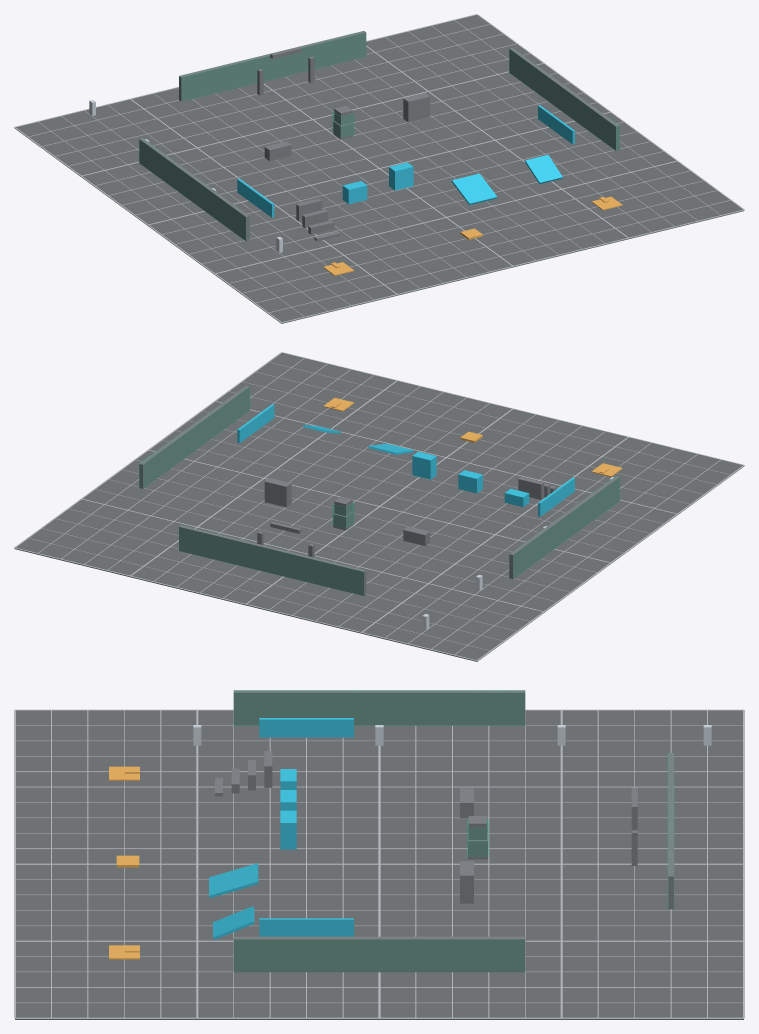
The model's file is env_test_arena_kit_01.glb.
The picture shows the model from 3 angles, top to bottom: view 1: azimuth 30°, elevation 25°; view 2: azimuth 150°, elevation 25°; view 3: azimuth 270°, elevation 25°; orthographic projection. The views are drawn at different scales.
Parts seen in each view (by area): view 1: env_test_floor_grid_01, env_test_wall_back_01, col_env_test_wall_back_01, env_test_wall_lane_left_01, env_test_wall_lane_right_01, col_env_test_wall_lane_right_01, col_env_test_wall_lane_left_01, env_test_slide_ramp_01, env_test_grid_y_-10, env_test_grid_y_-05, env_test_cover_high_01, env_test_launch_ramp_01 (+13 smaller); view 2: env_test_floor_grid_01, env_test_wall_back_01, col_env_test_wall_back_01, env_test_wall_lane_left_01, env_test_wall_lane_right_01, col_env_test_wall_lane_right_01, col_env_test_wall_lane_left_01, env_test_grid_y_+10, env_test_grid_y_-10, env_test_grid_y_+05, env_test_cover_high_01, env_test_mantle_ledge_160 (+14 smaller); view 3: env_test_floor_grid_01, env_test_wall_lane_right_01, env_test_wall_lane_left_01, col_env_test_wall_lane_right_01, col_env_test_wall_lane_left_01, env_test_wallrun_panel_02, env_test_wallrun_panel_01, env_test_grid_x_+10, env_test_grid_x_+09, env_test_grid_x_-08, env_test_grid_x_+02, env_test_grid_x_-01 (+29 smaller).
Boxes of the visible parts, <box> form: env_test_floor_grid_01: <box>15,15,744,323</box>; env_test_wall_back_01: <box>179,31,366,101</box>; col_env_test_wall_back_01: <box>181,33,365,100</box>; env_test_wall_lane_left_01: <box>139,138,249,241</box>; env_test_wall_lane_right_01: <box>509,47,619,150</box>; col_env_test_wall_lane_right_01: <box>509,49,619,150</box>; col_env_test_wall_lane_left_01: <box>139,138,249,240</box>; env_test_slide_ramp_01: <box>451,173,497,205</box>; env_test_grid_y_-10: <box>281,209,744,322</box>; env_test_grid_y_-05: <box>215,161,677,273</box>; env_test_cover_high_01: <box>403,93,430,122</box>; env_test_launch_ramp_01: <box>525,155,562,184</box>; env_test_floor_grid_01: <box>14,353,743,661</box>; env_test_wall_back_01: <box>179,525,366,595</box>; col_env_test_wall_back_01: <box>179,527,363,595</box>; env_test_wall_lane_left_01: <box>509,476,619,579</box>; env_test_wall_lane_right_01: <box>139,385,249,488</box>; col_env_test_wall_lane_right_01: <box>139,387,249,488</box>; col_env_test_wall_lane_left_01: <box>509,476,619,578</box>; env_test_grid_y_+10: <box>14,547,477,660</box>; env_test_grid_y_-10: <box>281,352,744,465</box>; env_test_grid_y_+05: <box>81,499,543,611</box>; env_test_cover_high_01: <box>264,478,291,507</box>; env_test_mantle_ledge_160: <box>412,451,436,479</box>; env_test_floor_grid_01: <box>15,710,743,1019</box>; env_test_wall_lane_right_01: <box>233,936,525,972</box>; env_test_wall_lane_left_01: <box>233,690,525,725</box>; col_env_test_wall_lane_right_01: <box>234,940,524,971</box>; col_env_test_wall_lane_left_01: <box>234,690,524,725</box>; env_test_wallrun_panel_02: <box>259,718,353,737</box>; env_test_wallrun_panel_01: <box>259,918,353,936</box>; env_test_grid_x_+10: <box>15,1017,743,1018</box>; env_test_grid_x_+09: <box>16,1002,742,1003</box>; env_test_grid_x_-08: <box>16,740,742,741</box>; env_test_grid_x_+02: <box>16,894,742,895</box>; env_test_grid_x_-01: <box>16,848,742,849</box>.
Bounding box in the file's own units: 20.05 × 2.07 × 20.05.
